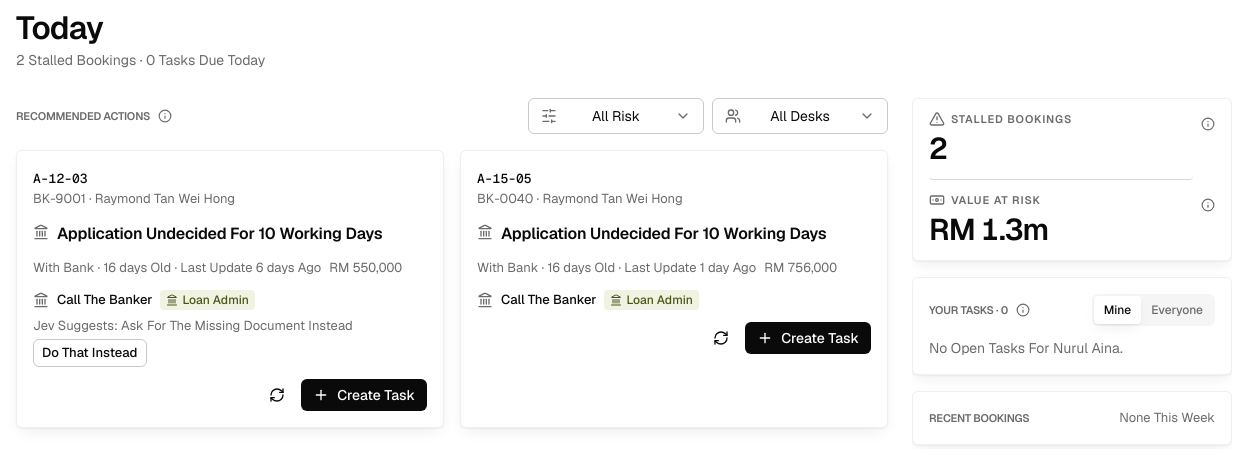
it: ChasePage › persona presets and the owner filter › reads another desk in the header, the tile and the cards together
Click the dropdown named "Filter by owner".
click(800, 116)  # box [712,98,888,134]
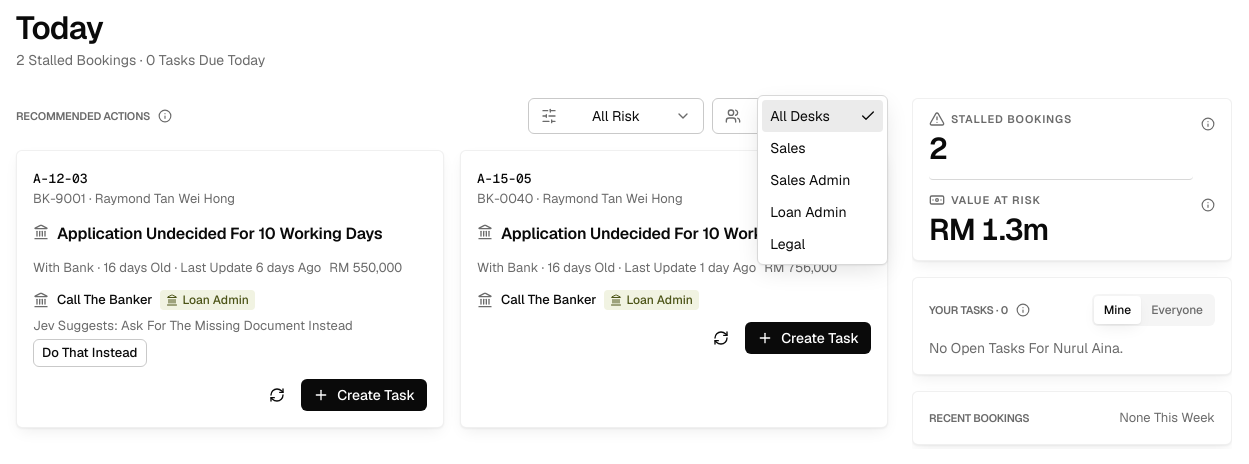
Click the option "Loan Admin".
click(808, 212)  # box [770,203,846,221]
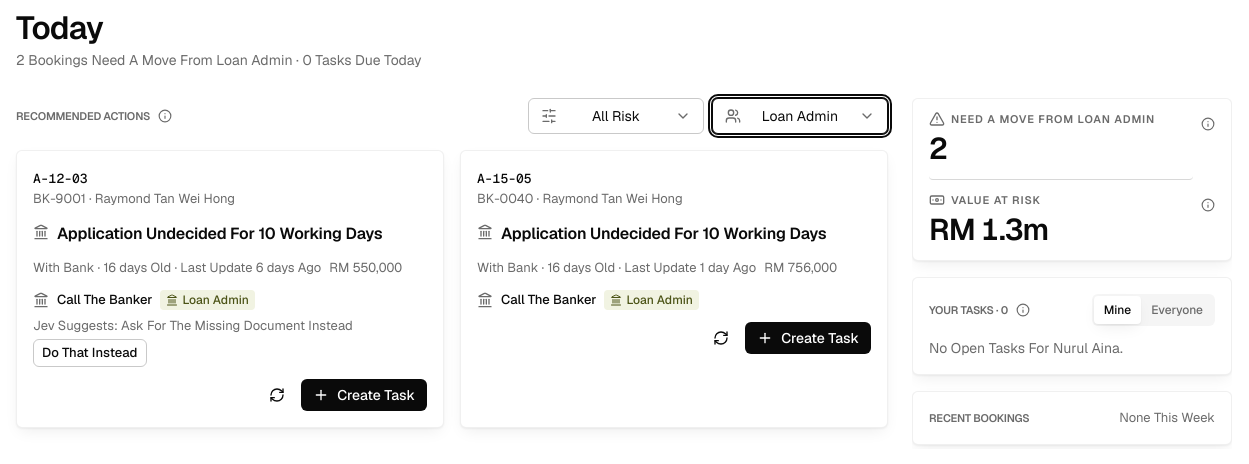
Check: the text "2 Bookings Need A Move From Loan Admin · 0 Tasks Due Today" is shown, box [16,51,422,69]
Check: the text "Need A Move From Loan Admin" is shown, box [951,112,1155,126]
